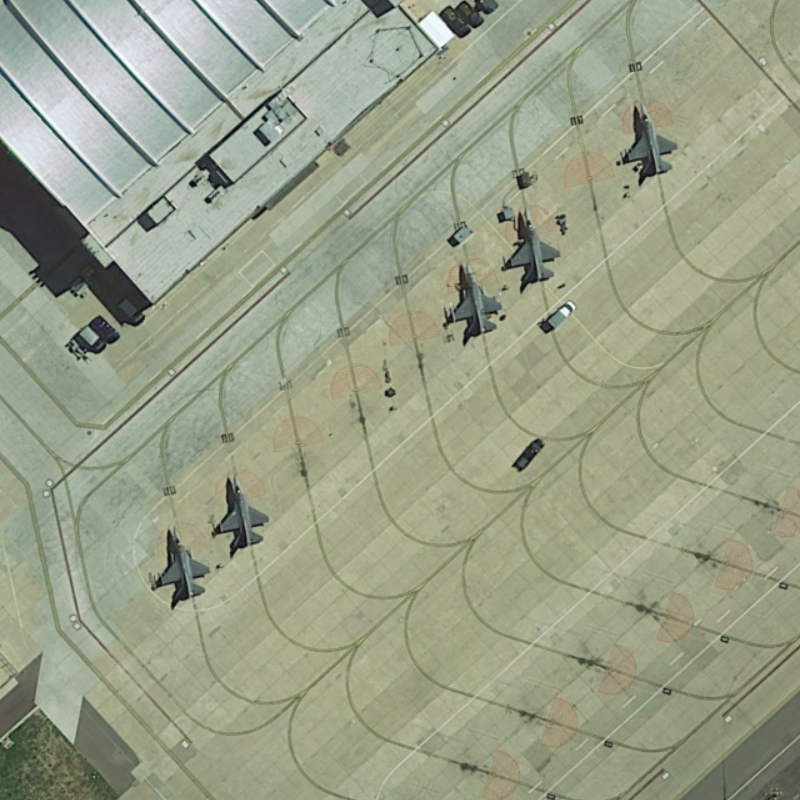A5: (495, 205, 567, 292), (438, 259, 510, 342), (619, 100, 686, 184), (209, 468, 274, 554), (148, 524, 215, 605)
